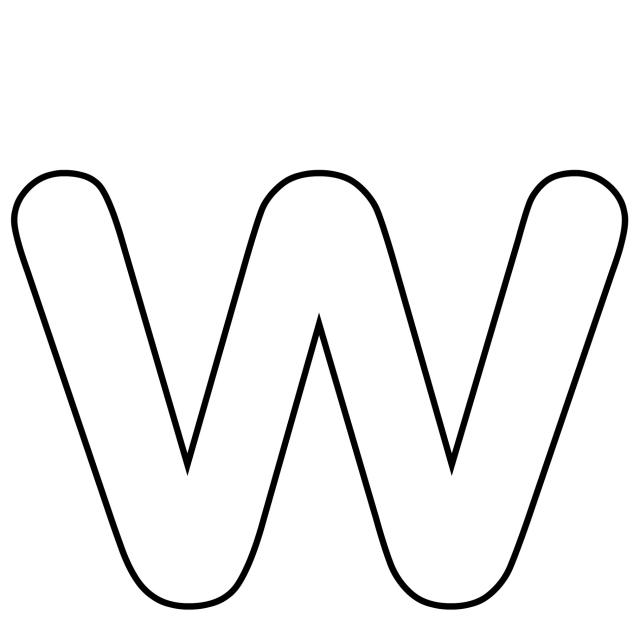W: (5, 113, 624, 629)
